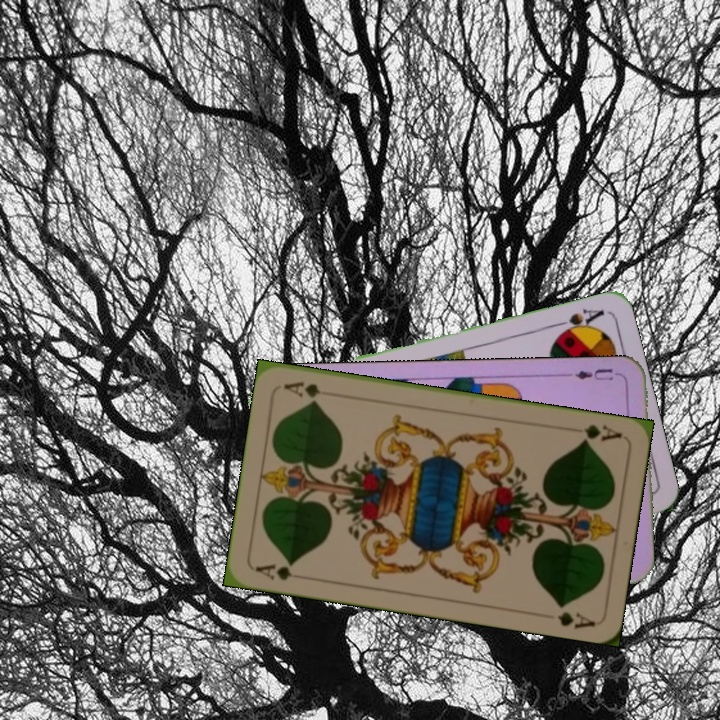EU: (564, 364, 624, 383)
GA: (578, 420, 624, 445), (251, 559, 296, 583)
SA: (549, 304, 607, 339)
